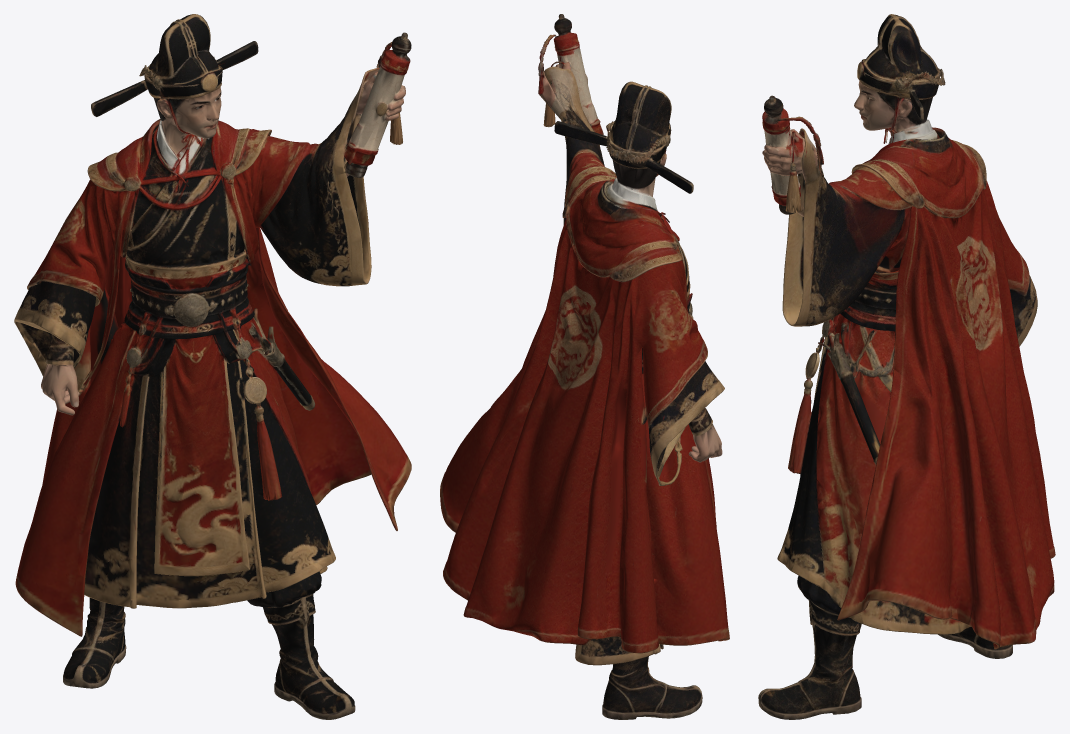
The model's file is Meshy_AI_Imperial_Envoy_texture_remesh_tri.obj.
3 views of the same model, side by side, from view 1: azimuth 30°, elevation 25°; view 2: azimuth 150°, elevation 25°; view 3: azimuth 270°, elevation 25° (orthographic). The views are drawn at different scales.
Visible parts, largest first — view 1: Meshy_AI_Imperial_Envoy_texture_remesh_tri; view 2: Meshy_AI_Imperial_Envoy_texture_remesh_tri; view 3: Meshy_AI_Imperial_Envoy_texture_remesh_tri.
Boxes of the visible parts, box(x1,y1,x2,y2) form: Meshy_AI_Imperial_Envoy_texture_remesh_tri: box(14, 14, 411, 719); Meshy_AI_Imperial_Envoy_texture_remesh_tri: box(440, 14, 729, 719); Meshy_AI_Imperial_Envoy_texture_remesh_tri: box(758, 14, 1055, 719).
Bounding box in the file's own units: 1.04 × 1.89 × 0.7829.
Materials: 1 (1 with a texture image).
